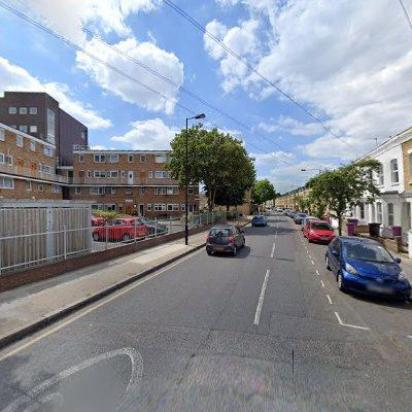moving-car: (206, 224, 246, 256), (252, 214, 267, 228)
stationary-car-onstreet: (324, 234, 412, 304), (90, 214, 148, 244), (302, 218, 334, 244)
